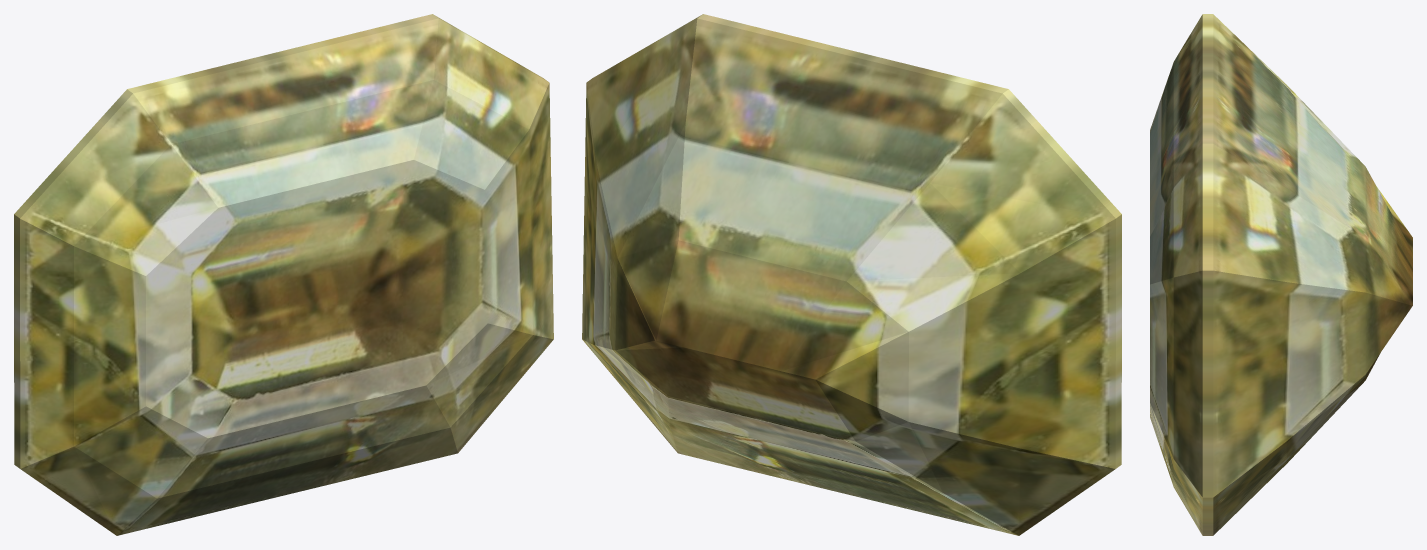
Rendered from quartz_b_3d-model.glb.
3 renders of one model, left to right at view 1: azimuth 30°, elevation 25°; view 2: azimuth 150°, elevation 25°; view 3: azimuth 270°, elevation 25°, orthographic. The views are drawn at different scales.
Parts seen in each view (by area): view 1: quartz_b; view 2: quartz_b; view 3: quartz_b.
Part boxes in pixels (box(x1,y1,x2,y2)): quartz_b: box(14, 14, 553, 535); quartz_b: box(582, 14, 1121, 535); quartz_b: box(1150, 14, 1412, 535).
Bounding box in the file's own units: 0.012 × 0.00945 × 0.00586.
Materials: 2 (2 with a texture image).
